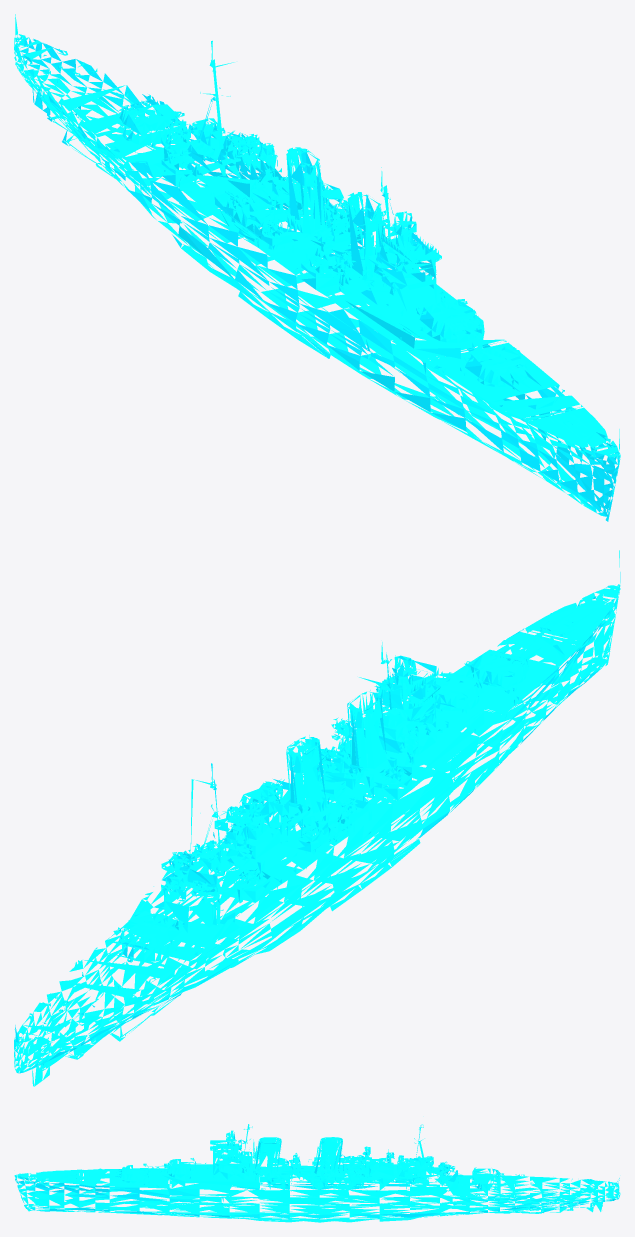
File: Encounter.glb
3 renders of one model, top to bottom at view 1: azimuth 30°, elevation 25°; view 2: azimuth 150°, elevation 25°; view 3: azimuth 270°, elevation 25°, orthographic. The views are drawn at different scales.
Bounding box in the file's own units: 1.31 × 2.41 × 13.63.
